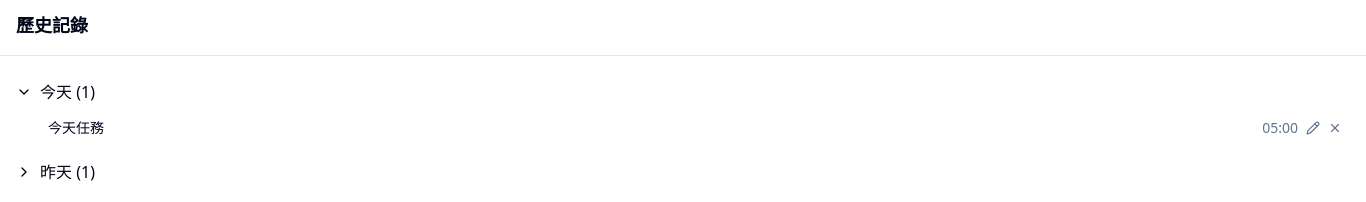
it: History › 點擊刪除按鈕應該顯示確認刪除
Check: the text "今天任務" is shown, box [48,118,104,137]
// 找到刪除按鈕並點擊
Click the button named "刪除 今天任務" at (1335, 128), box [1328,121,1342,135]
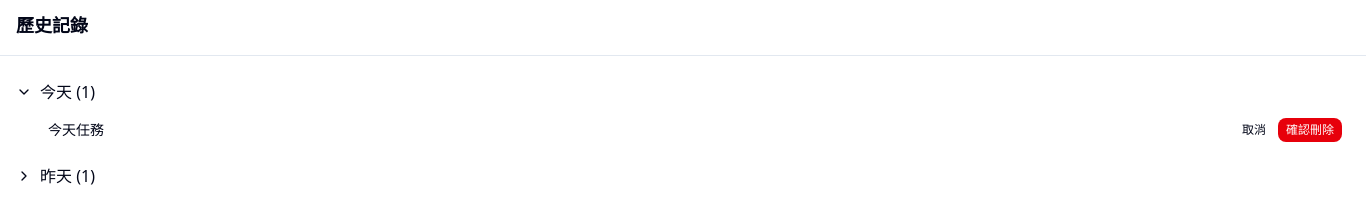
Check: the button "確認刪除" is shown, box [1278,118,1342,142]
